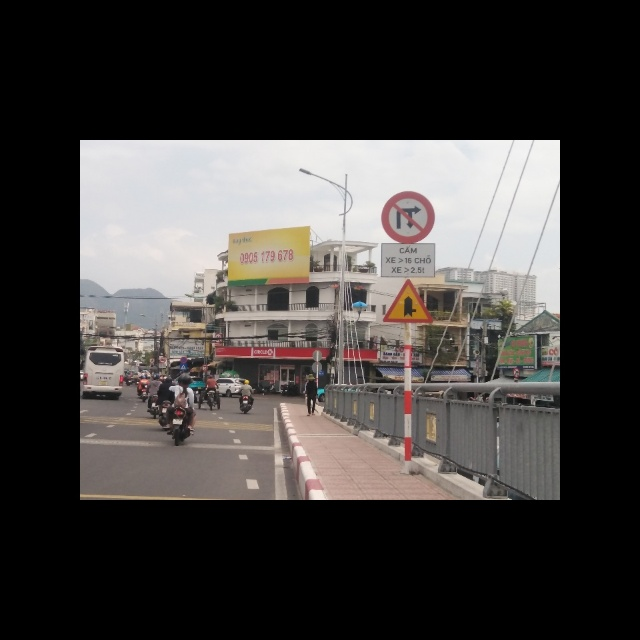Cấm quay đầu và rẽ phải: (379, 190, 436, 243)
Giao nhau với đường không ưu tiên: (380, 277, 435, 322)
